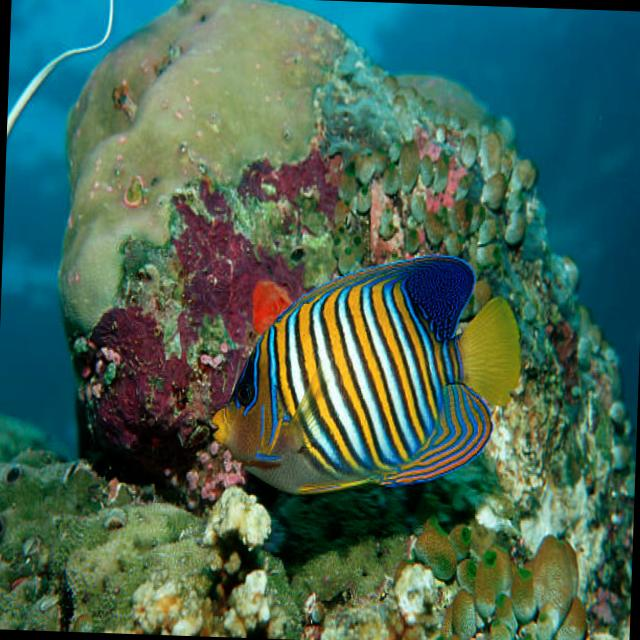AngelFish: (212, 247, 526, 502)
